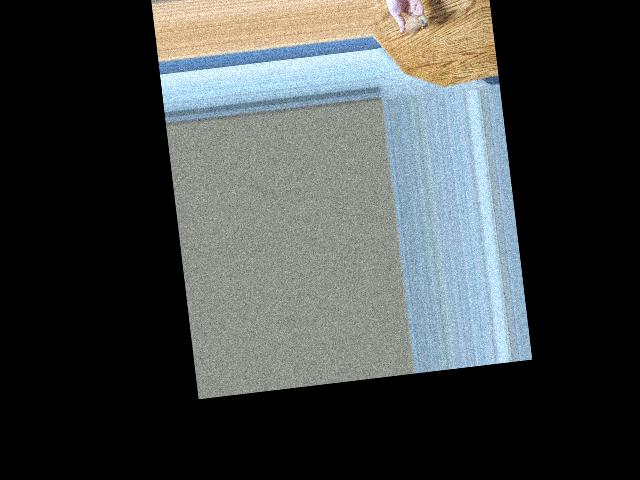sweet_potato: (400, 14, 428, 41)
